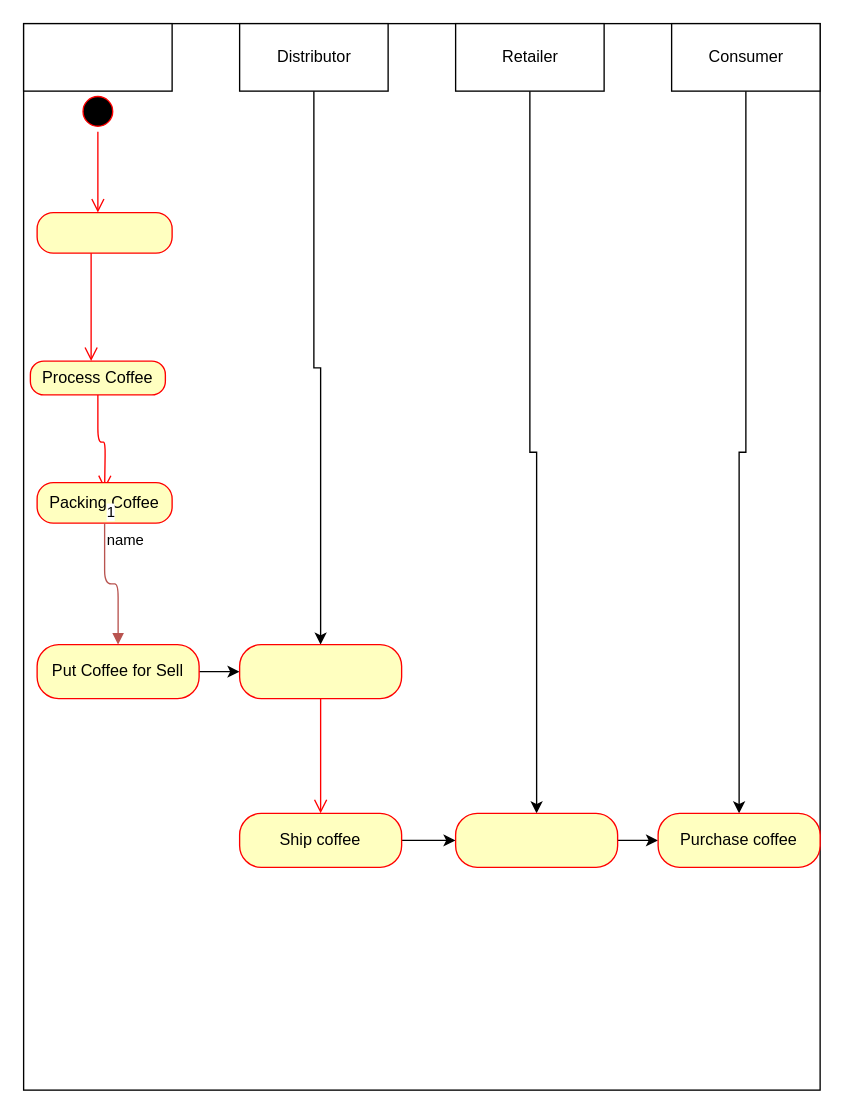
This 844x1114 diagram has some shape labels left out. Each missing label, with the box of its shape:
Buy Coffee: (238, 643, 402, 699)
Farmer: (22, 22, 172, 91)
Harvest Coffee: (36, 211, 172, 253)
Receive Coffee: (454, 812, 618, 867)
